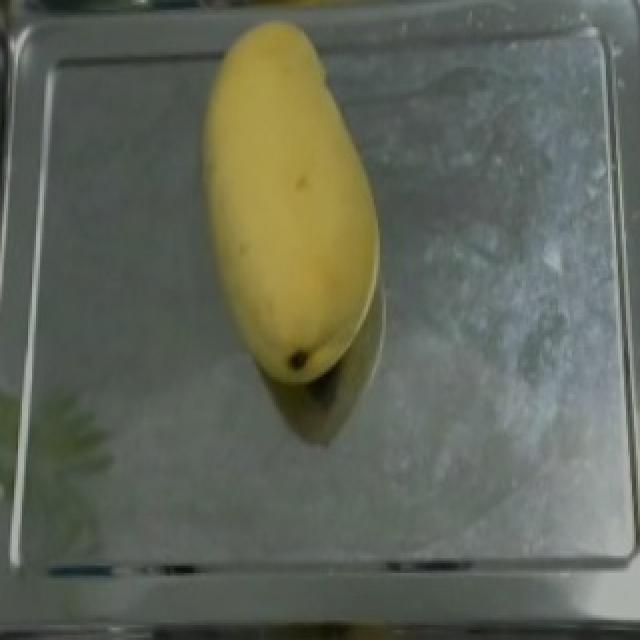fruit: (172, 10, 406, 399)
